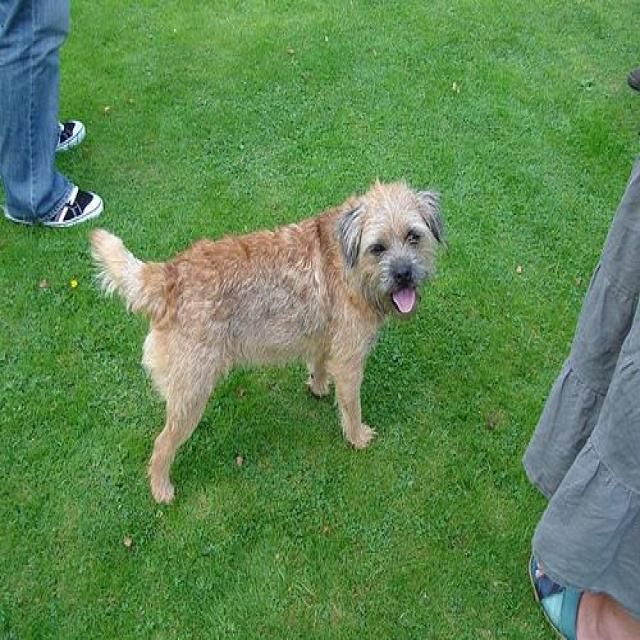dogs: (78, 154, 464, 510)
